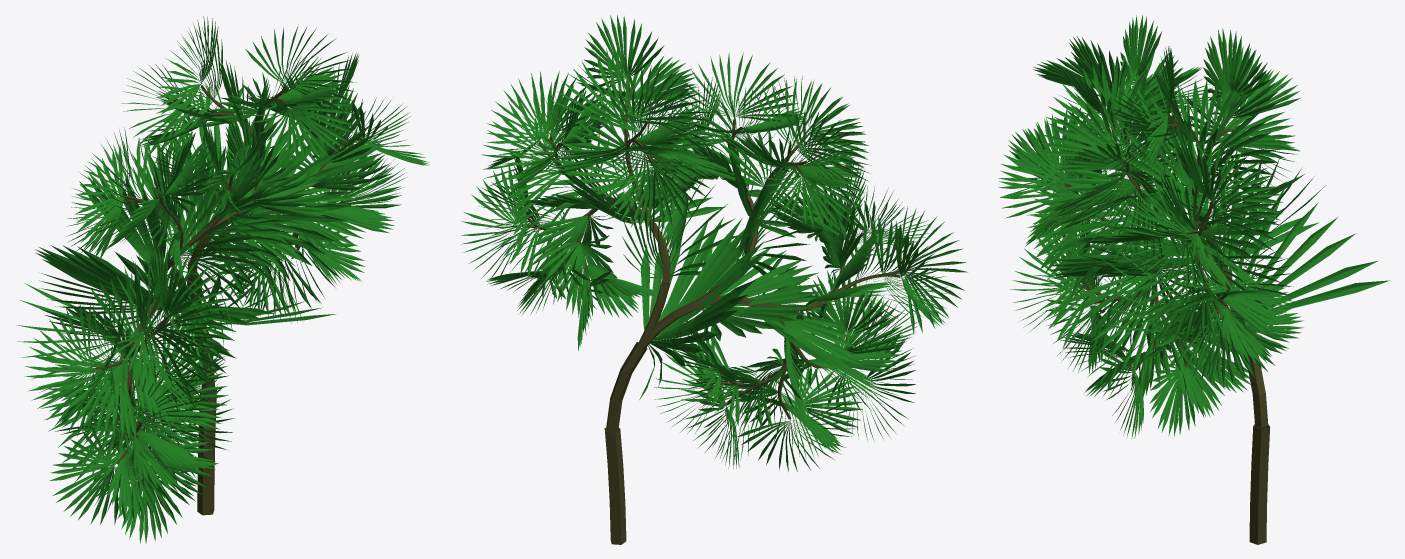
File: plants6.obj
3 views of the same model, side by side, from view 1: azimuth 30°, elevation 25°; view 2: azimuth 150°, elevation 25°; view 3: azimuth 270°, elevation 25° (orthographic). The views are drawn at different scales.
Parts seen in each view (by area): view 1: 1tree-lik; view 2: 1tree-lik; view 3: 1tree-lik.
Part boxes in pixels (box(x1,y1,x2,y2)): 1tree-lik: box(16, 16, 429, 543); 1tree-lik: box(461, 15, 967, 544); 1tree-lik: box(998, 15, 1390, 544).
Bounding box in the file's own units: 808 × 886 × 624.
